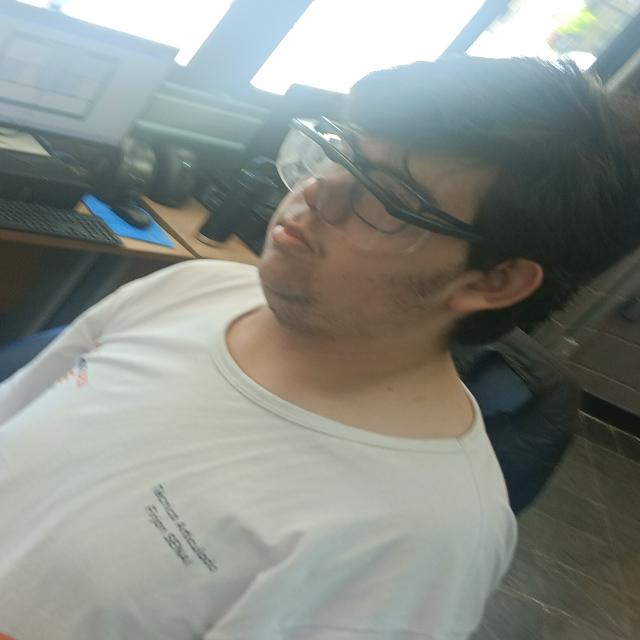oculos-epi: (276, 117, 485, 255)
